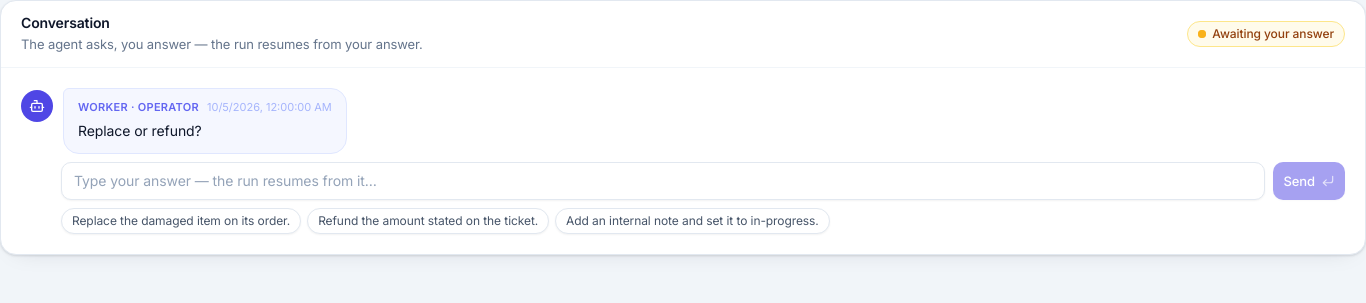
Test: ClarificationChatView › shows the worker question and sends the operator answer
expect the text "Replace or refund?" is shown: met, box [78,122,202,139]
expect the text "Awaiting your answer" is shown: met, box [1187,21,1345,47]
Type "Replace it" into the field labelled "answer".
click(663, 181); type("Replace it")  # box [61,162,1265,200]
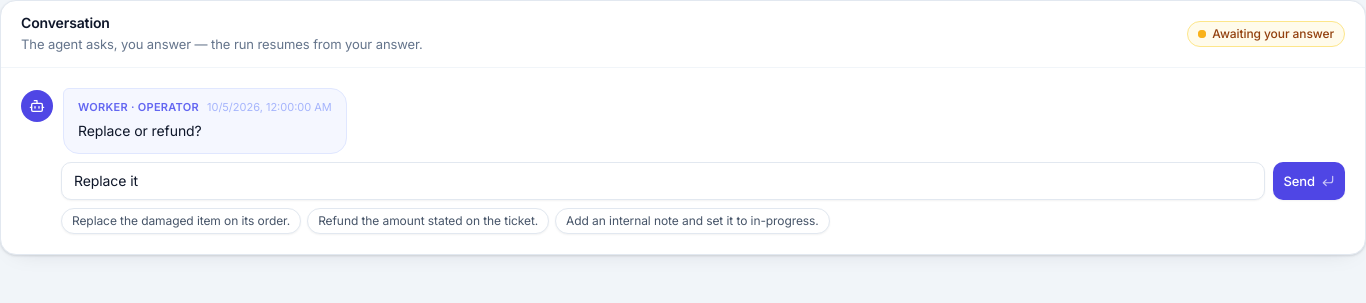
Click the button "Send".
click(1309, 181)  # box [1273,162,1345,200]
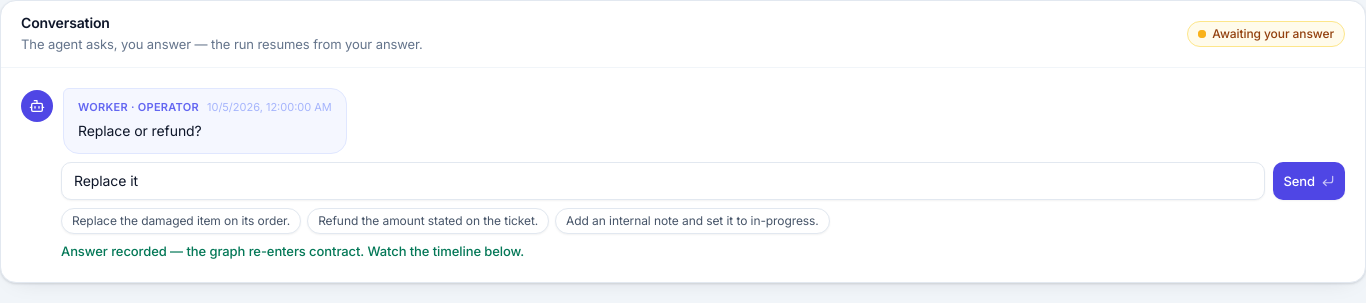
expect the text "Answer recorded — the graph re-enters contract. Watch the timeline below." is shown: met, box [61,243,524,259]
